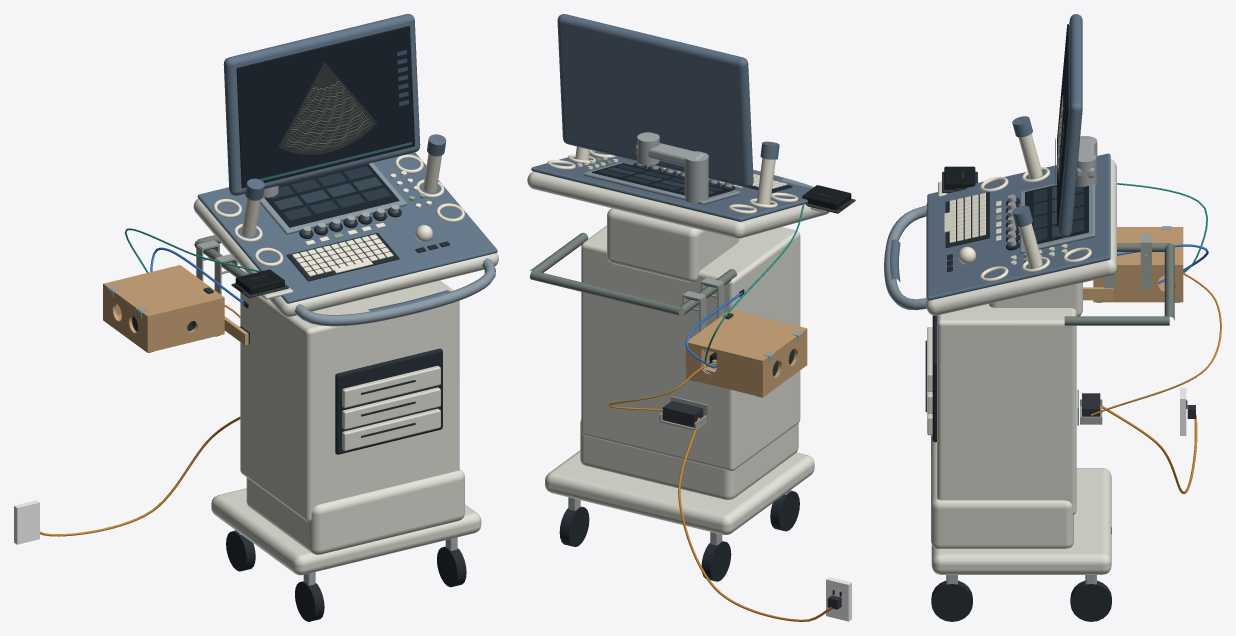
The model's file is forher-recorder-v14-no-end-block.glb.
The picture shows the model from 3 angles, left to right: view 1: azimuth 30°, elevation 25°; view 2: azimuth 150°, elevation 25°; view 3: azimuth 270°, elevation 25°; orthographic projection.
Visible parts, largest first — view 1: Rounded lower machine body, Dark monitor glass, Blue-grey operation fascia, Lower skirt transition, Wheeled pedestal, Blue-grey monitor bezel, Front removable module face (×3), Synthetic ultrasound fan - no patient data, Wide operation interface table, A hinged top plywood, Front equipment bay, Caster wheel (×3) (+9 smaller); view 2: Rounded lower machine body, Blue-grey monitor bezel, Wheeled pedestal, Lower skirt transition, Operation deck pedestal, Wide operation interface table, Blue-grey operation fascia, A hinged top plywood, Caster wheel (×3), E rear open U notch - 45 wide 63.5 deep R22.5, Rear transverse grip, C left ventilation diameter 45 x 2 (+12 smaller); view 3: Rounded lower machine body, Blue-grey operation fascia, Wheeled pedestal, Lower skirt transition, Wide operation interface table, Blue-grey monitor bezel, Caster wheel (×2), A hinged top plywood, D right cable hole diameter 45, Operation deck pedestal, Curved front push handle, Probe grip (×2) (+11 smaller).
Boxes of the visible parts, <box> form: Rounded lower machine body: <box>240,280,459,521</box>; Dark monitor glass: <box>236,26,414,188</box>; Blue-grey operation fascia: <box>197,152,497,303</box>; Lower skirt transition: <box>246,469,464,554</box>; Wheeled pedestal: <box>211,488,481,575</box>; Blue-grey monitor bezel: <box>223,14,420,195</box>; Front removable module face (×3): <box>342,365,440,450</box>; Synthetic ultrasound fan - no patient data: <box>278,62,376,154</box>; Wide operation interface table: <box>193,198,498,316</box>; A hinged top plywood: <box>103,265,224,319</box>; Front equipment bay: <box>335,348,442,454</box>; Caster wheel (×3): <box>226,531,466,621</box>; Rounded lower machine body: <box>581,225,800,471</box>; Blue-grey monitor bezel: <box>557,14,753,187</box>; Wheeled pedestal: <box>545,450,814,534</box>; Lower skirt transition: <box>580,420,798,499</box>; Operation deck pedestal: <box>607,208,738,282</box>; Wide operation interface table: <box>527,171,829,238</box>; Blue-grey operation fascia: <box>531,151,811,221</box>; A hinged top plywood: <box>687,310,807,363</box>; Caster wheel (×3): <box>559,491,799,581</box>; E rear open U notch - 45 wide 63.5 deep R22.5: <box>689,346,759,393</box>; Rear transverse grip: <box>530,270,680,315</box>; C left ventilation diameter 45 x 2: <box>760,332,807,393</box>; Rounded lower machine body: <box>937,304,1076,514</box>; Blue-grey operation fascia: <box>927,153,1110,300</box>; Wheeled pedestal: <box>931,468,1111,574</box>; Lower skirt transition: <box>931,435,1073,548</box>; Wide operation interface table: <box>926,159,1116,315</box>; Blue-grey monitor bezel: <box>1058,14,1082,237</box>; Caster wheel (×2): <box>931,580,1111,621</box>; A hinged top plywood: <box>1117,227,1183,268</box>; D right cable hole diameter 45: <box>1093,268,1183,298</box>; Operation deck pedestal: <box>989,282,1082,316</box>; Curved front push handle: <box>884,205,927,310</box>; Probe grip (×2): <box>1018,134,1042,268</box>.
Size of the model in its own units: 1.02 by 1.42 by 0.8262.
